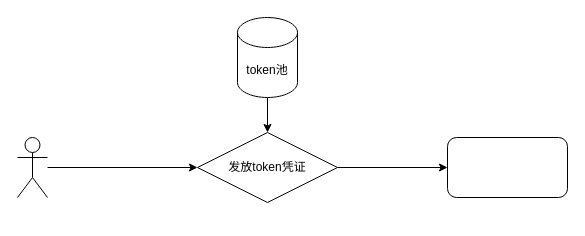
This 585x236 diagram has some shape labels left out. Here are the shapes that lost their labels. From the top down, the centre of each, then its label:
(x=32, y=167): Actor
(x=507, y=167): 业务系统校验token，并处理业务请求
